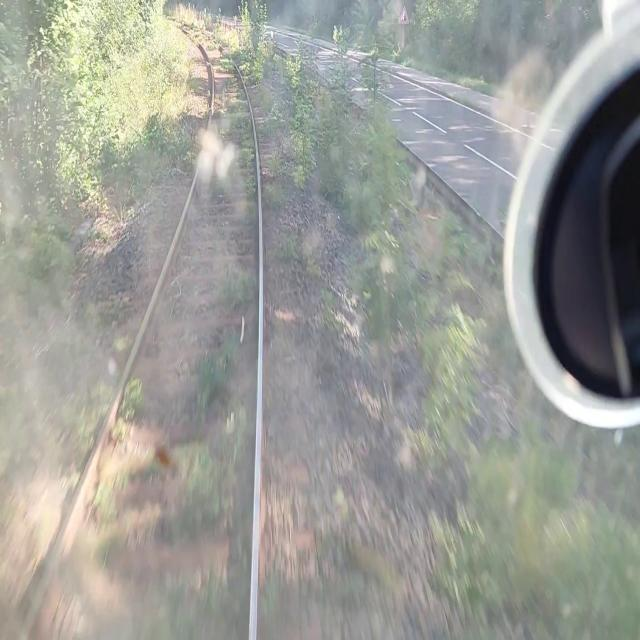Plant: (208, 25, 316, 188), (138, 22, 207, 193), (156, 539, 248, 639), (161, 444, 220, 549), (64, 380, 112, 465), (220, 111, 256, 191), (193, 347, 234, 414), (91, 460, 134, 523), (109, 377, 144, 441), (219, 264, 256, 308), (98, 291, 131, 328), (271, 233, 295, 261), (264, 180, 286, 207), (318, 284, 334, 321), (270, 151, 281, 174), (221, 57, 234, 72)
